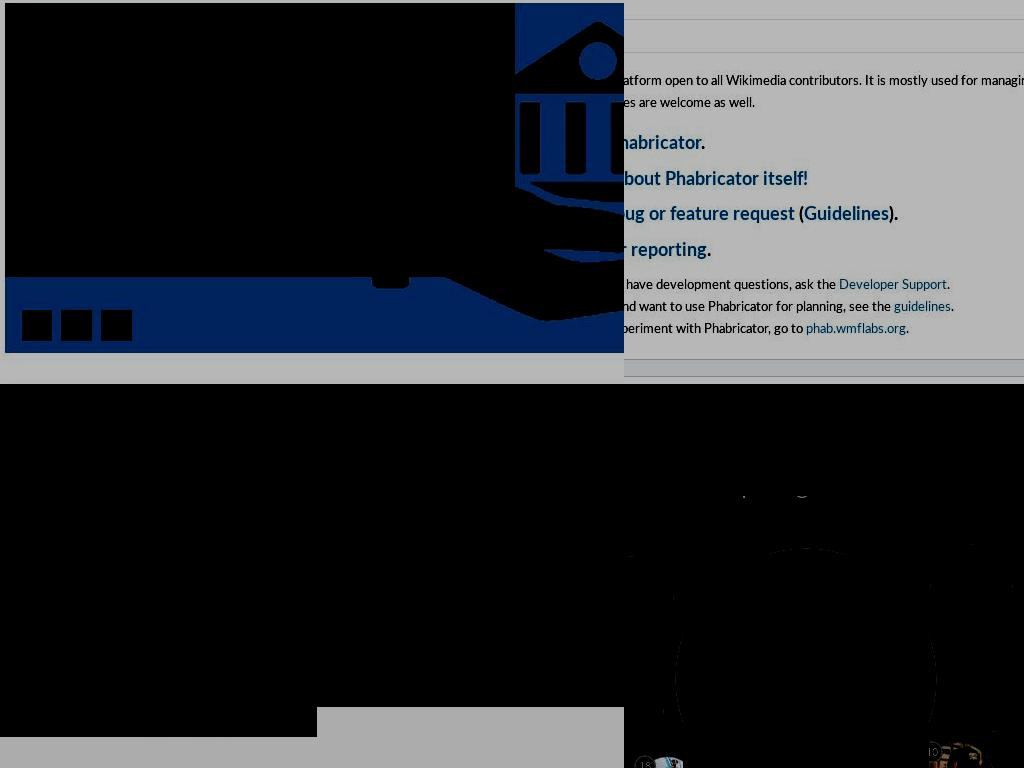button: (0, 558, 161, 600), (191, 558, 344, 600), (61, 310, 92, 341), (101, 310, 132, 341), (22, 310, 52, 341)
heading: (0, 384, 363, 539), (22, 20, 498, 60), (624, 470, 1024, 496), (624, 164, 808, 190), (624, 200, 795, 225), (624, 235, 707, 261), (804, 200, 889, 225), (624, 129, 701, 154), (795, 200, 804, 225), (889, 200, 898, 225), (707, 235, 711, 261), (701, 129, 705, 154)
image: (0, 384, 624, 707), (683, 556, 929, 768), (452, 448, 624, 707), (931, 545, 1012, 627), (951, 645, 1024, 731), (624, 557, 673, 641), (624, 667, 663, 754), (921, 742, 994, 768)
link: (22, 210, 453, 258), (22, 160, 479, 183), (839, 275, 947, 293), (806, 319, 906, 337), (894, 297, 951, 315)
text: (22, 67, 498, 143), (624, 71, 1024, 111), (0, 706, 317, 737), (624, 297, 894, 315), (654, 501, 958, 516), (669, 515, 943, 530), (624, 275, 839, 293), (22, 210, 183, 233), (624, 319, 806, 337), (0, 570, 136, 588), (216, 570, 319, 588), (152, 721, 229, 737), (954, 643, 977, 666), (932, 543, 955, 566), (920, 740, 943, 763), (633, 755, 656, 768), (1018, 727, 1024, 749), (947, 275, 950, 293), (951, 297, 954, 315), (906, 319, 909, 337)
